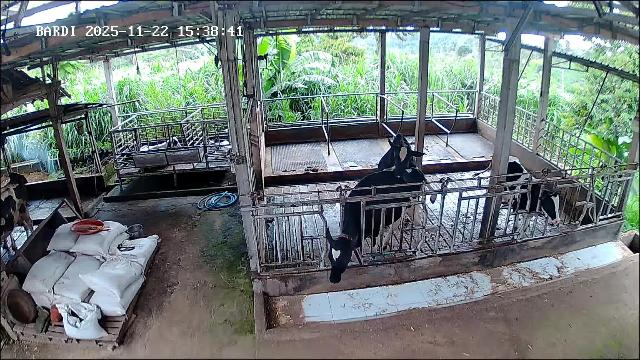mounting: (376, 134, 438, 203)
